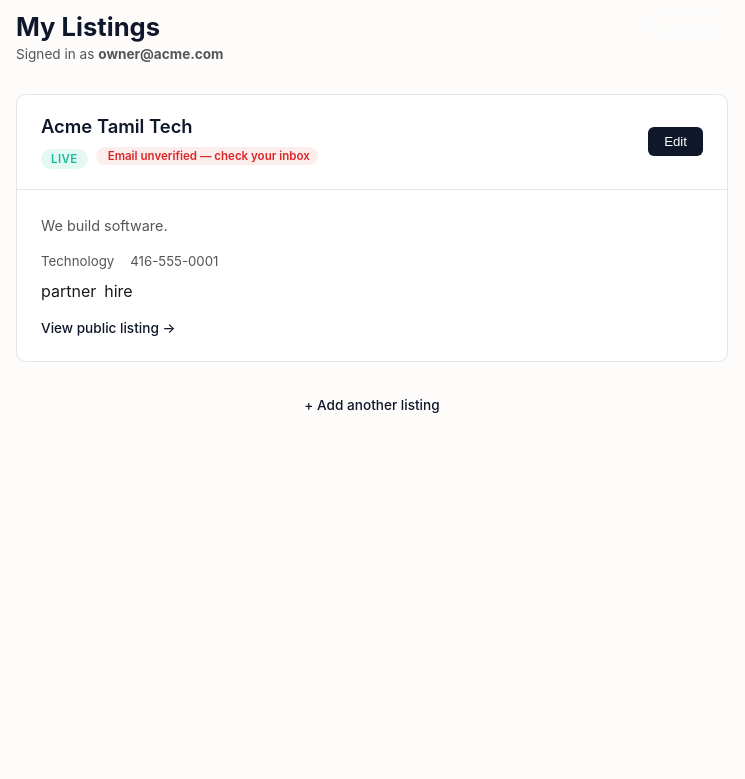
Test: DashboardClient — edit flow › clicking Edit Listing reveals Save Changes and Cancel buttons
Click the button "Edit". click: coordinates (676, 142)
box: x1=648 y1=128 x2=703 y2=156
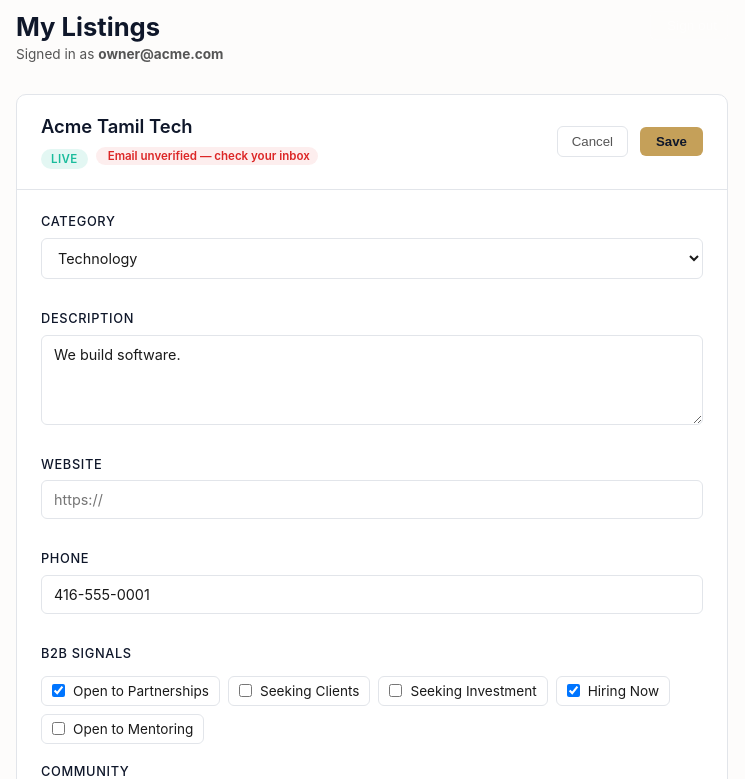
Check: the button "Save" is shown, box x1=640 y1=128 x2=703 y2=156
Check: the button "Cancel" is shown, box x1=557 y1=126 x2=628 y2=158
